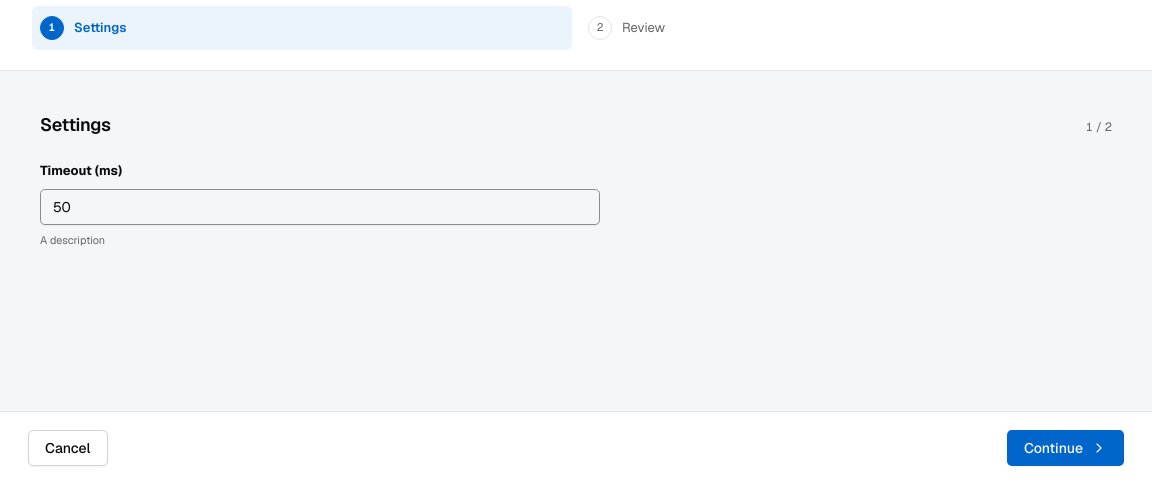
Test: retains units across separate label text nodes without including helper descriptions
Click the button "Continue". click: (1065, 448)
box: [1007,430,1124,466]
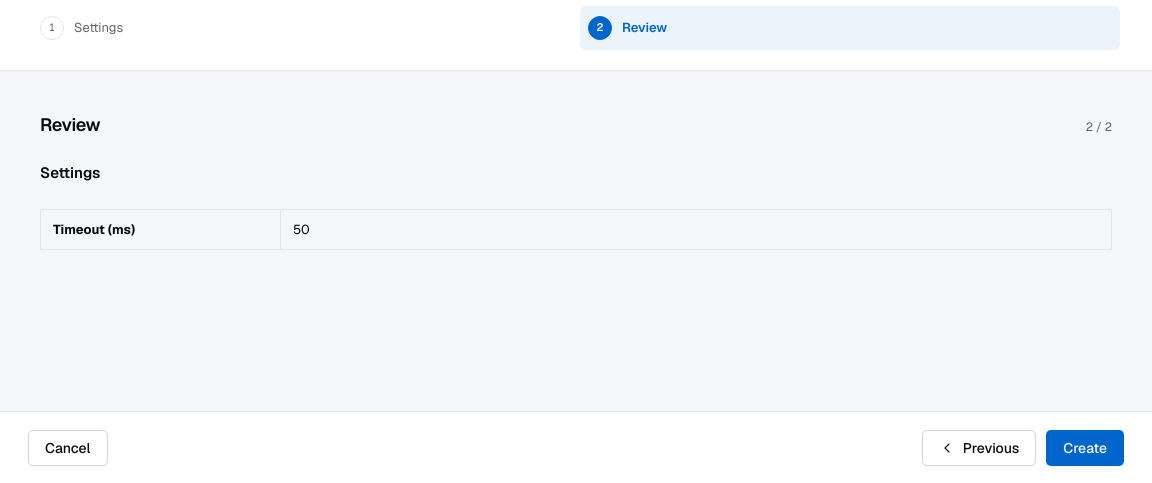
Now the element with class "wizard-review" shows "Timeout (ms)", box [53,220,135,238]
Now the element with class "wizard-review" no longer shows "A description", box [40,162,1112,250]
